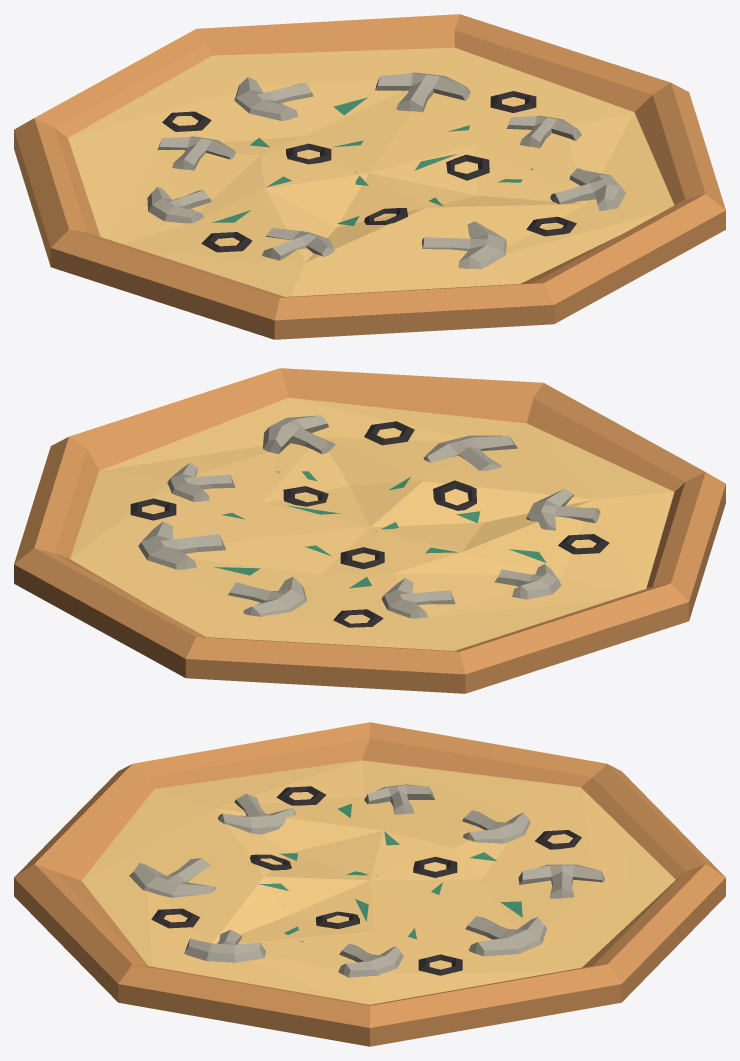
The model's file is PizzaOptimizada3-transformed.glb.
The picture shows the model from 3 angles, top to bottom: view 1: azimuth 30°, elevation 25°; view 2: azimuth 150°, elevation 25°; view 3: azimuth 270°, elevation 25°; orthographic projection. The views are drawn at different scales.
Visible parts, largest first — view 1: PizzaFungi; view 2: PizzaFungi; view 3: PizzaFungi.
Boxes of the visible parts, left/top/right/bottom form: PizzaFungi: left=14, top=14, right=725, bottom=339; PizzaFungi: left=14, top=368, right=725, bottom=693; PizzaFungi: left=14, top=722, right=725, bottom=1046.
Size of the model in its own units: 3.6 by 0.1798 by 3.6.
1 material, 1 textured.
